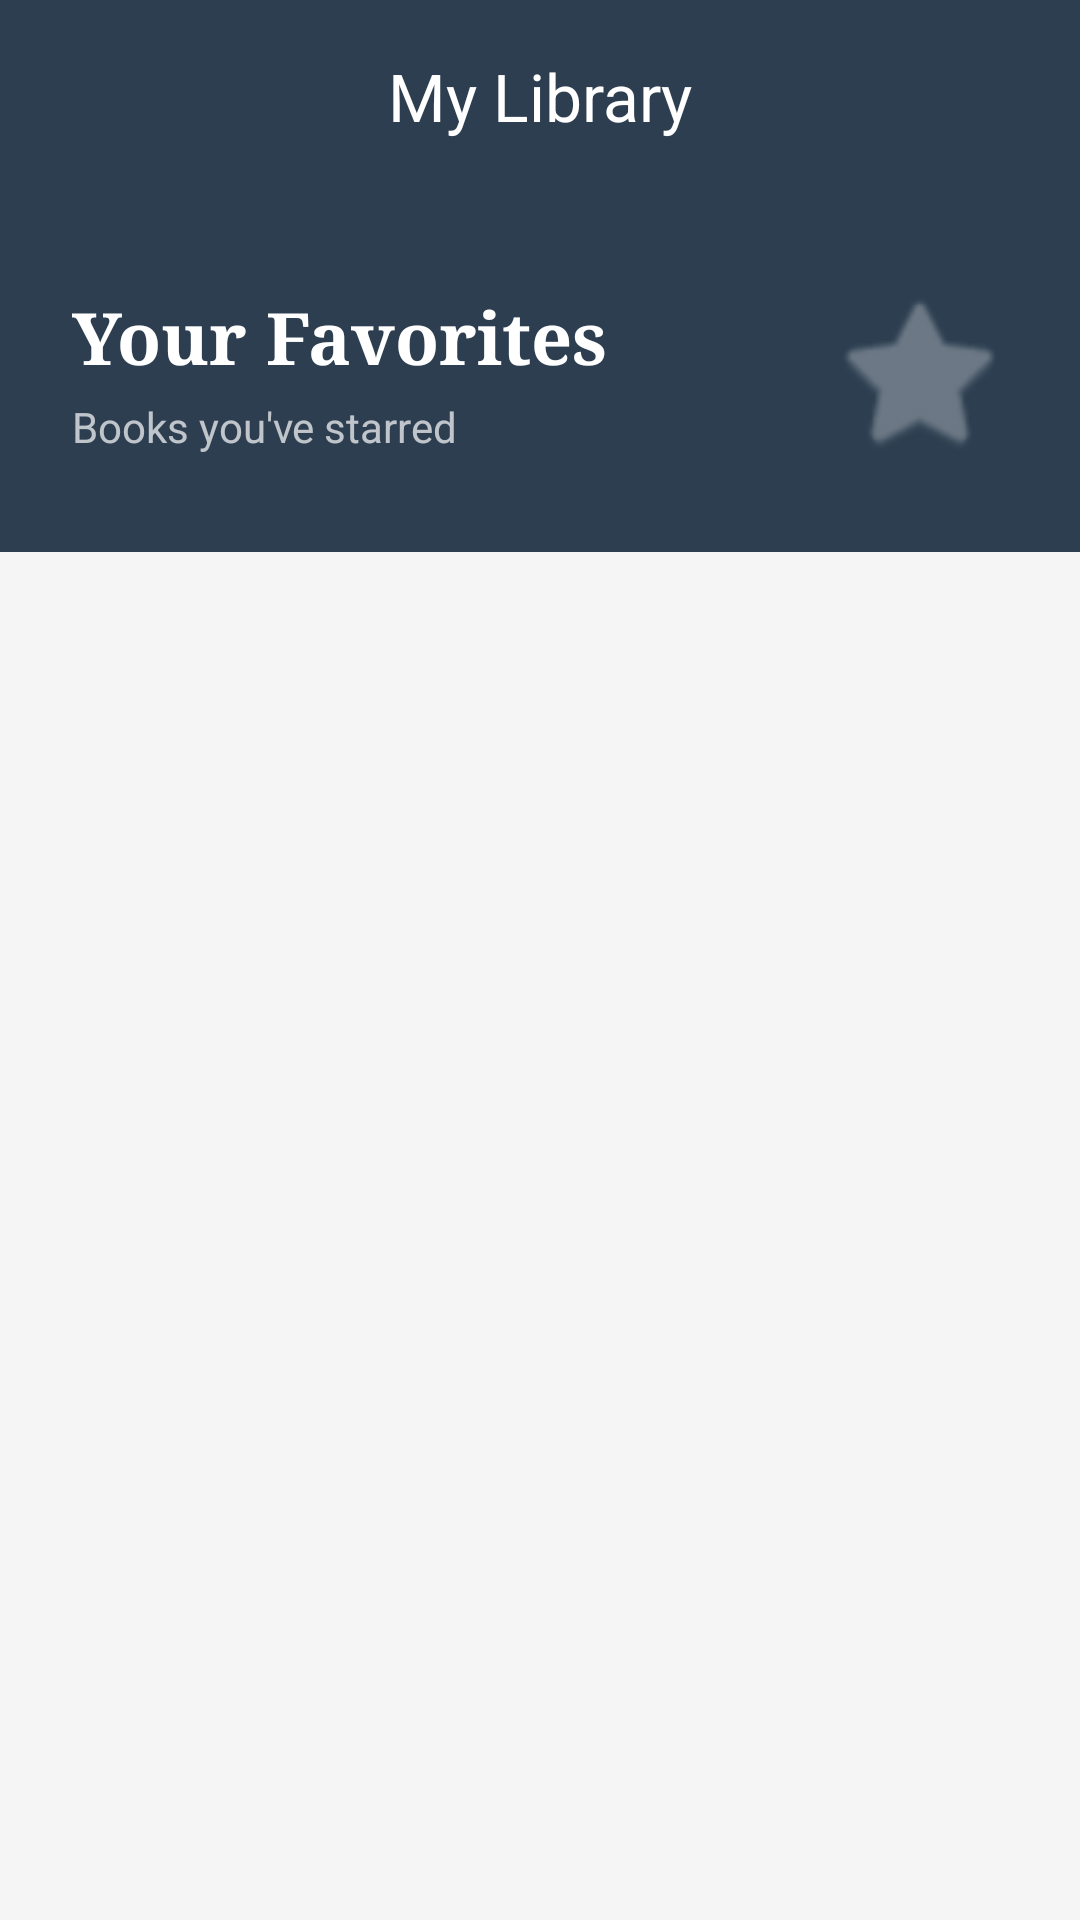

Where to tap for icons on this 1080×1920 app screen, as point (x, y):
star on: point (919, 373)
